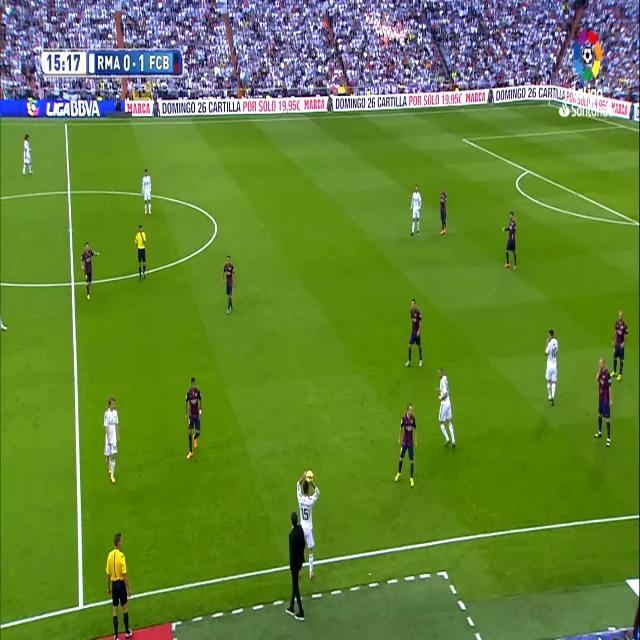halfcircle_bottom: (68, 271, 78, 295)
halfcircle_top: (64, 183, 74, 201)
midline_bottom_intersection: (74, 589, 88, 616)
midline_top_intersection: (63, 118, 69, 130)
